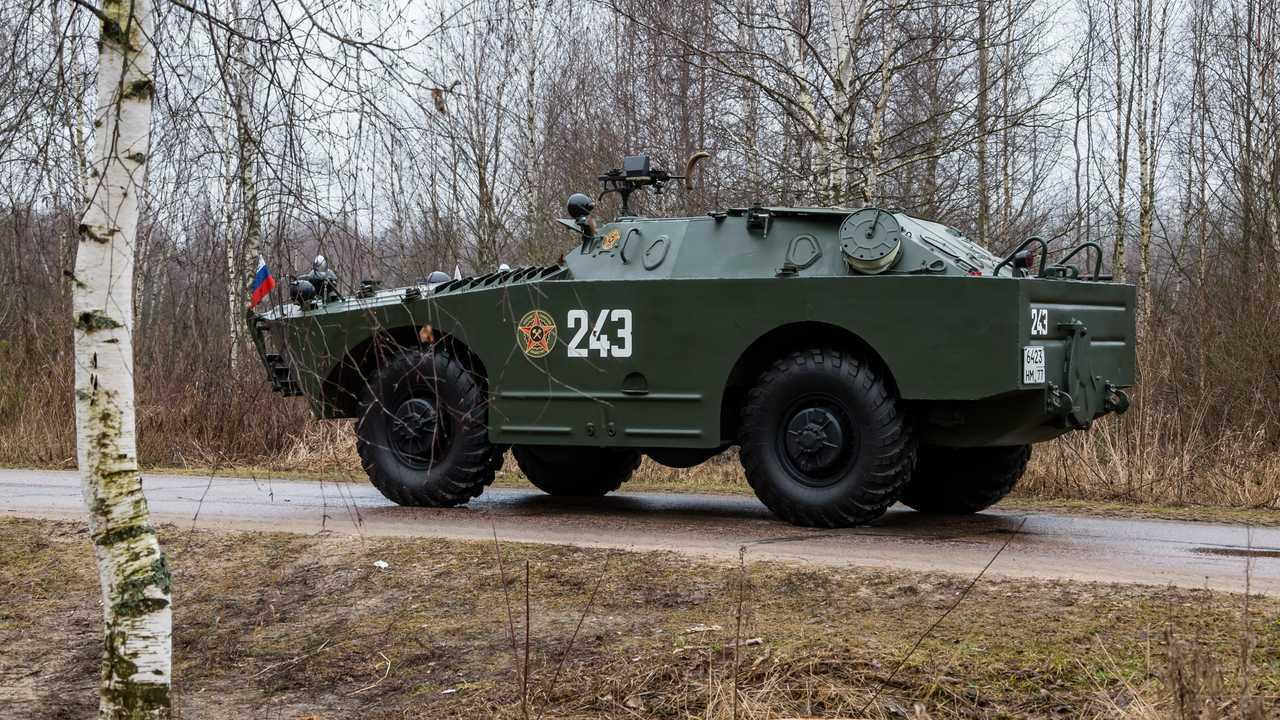tank: (233, 144, 1159, 531)
